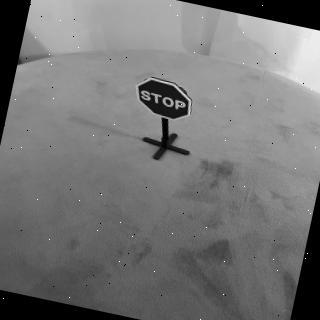sign_stop: (130, 73, 200, 127)
